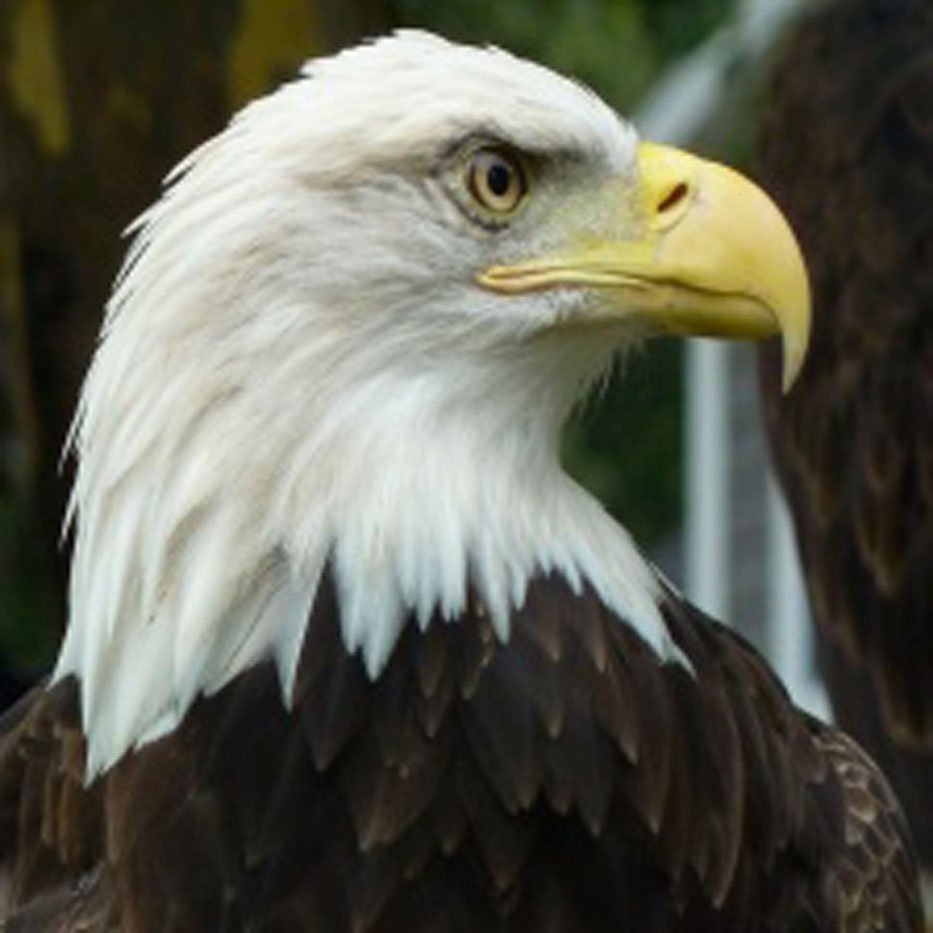Pengoyak Daging: (648, 138, 863, 409)
